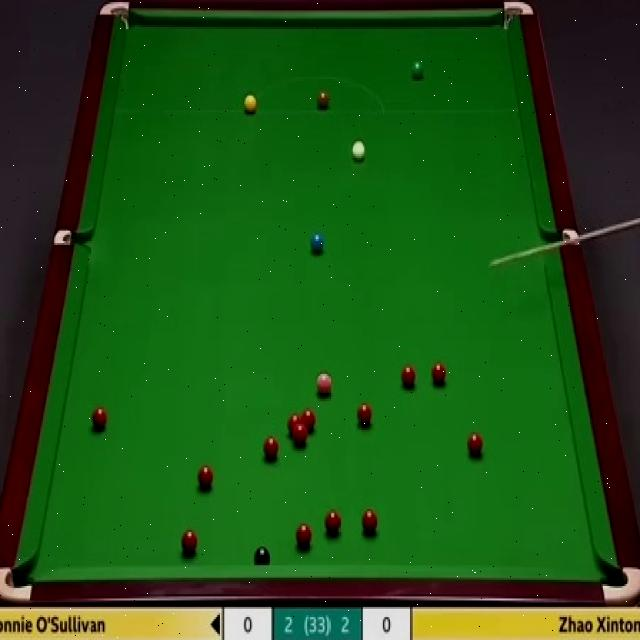black-ball: (253, 546, 270, 566)
blue-ball: (308, 229, 324, 255)
brown-ball: (317, 90, 329, 110)
green-ball: (409, 60, 425, 80)
pink-ball: (316, 368, 332, 396)
red-ball: (92, 405, 110, 433), (400, 363, 417, 392), (466, 434, 484, 461), (361, 508, 378, 535), (197, 464, 213, 492), (181, 529, 198, 555), (325, 510, 341, 536), (356, 402, 372, 428), (431, 363, 447, 388), (297, 522, 312, 548), (302, 409, 316, 435), (264, 436, 278, 460), (294, 426, 307, 447), (288, 413, 301, 434)
white-ball: (350, 137, 368, 165)
yellow-ball: (243, 93, 257, 113)
